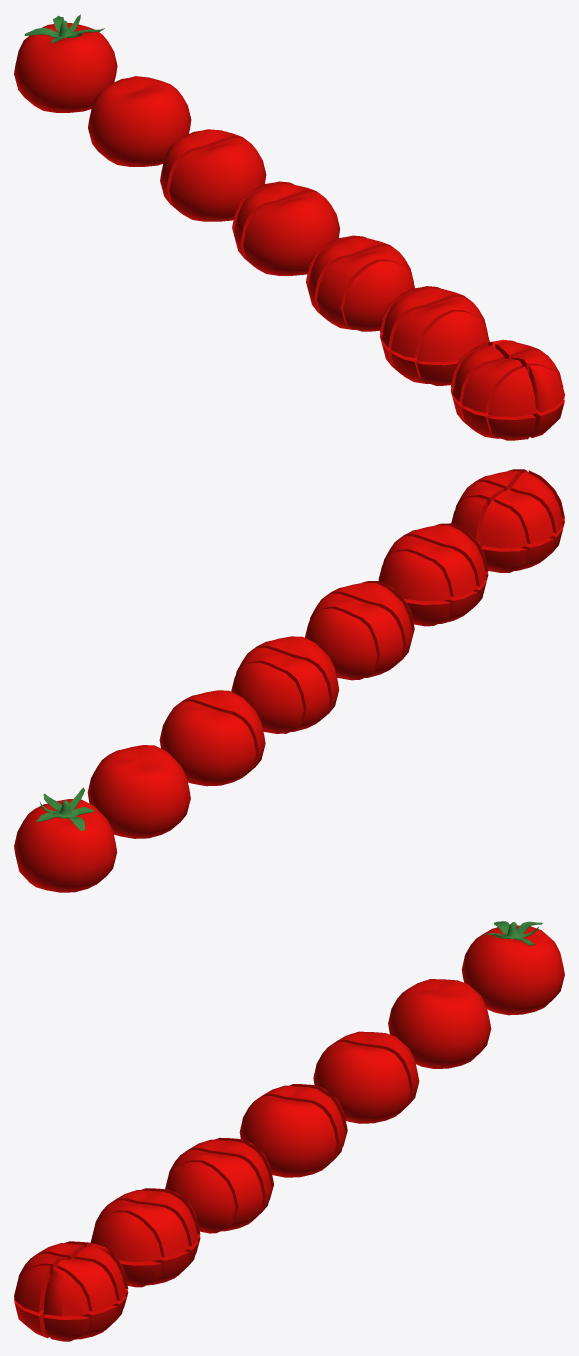
File: Tomato.fbx
3 renders of one model, top to bottom at view 1: azimuth 30°, elevation 25°; view 2: azimuth 150°, elevation 25°; view 3: azimuth 330°, elevation 25°, orthographic.
Parts seen in each view (by area): view 1: Tomato slice 6, Tomato slice 5, Tomato slice 3, Tomato slice 4, Tomato slice 0, Tomato slice 2, Tomato slice 1; view 2: Tomato slice 6, Tomato slice 5, Tomato slice 4, Tomato slice 0, Tomato slice 3, Tomato slice 2, Tomato slice 1; view 3: Tomato slice 6, Tomato slice 5, Tomato slice 3, Tomato slice 4, Tomato slice 0, Tomato slice 2, Tomato slice 1.
Part boxes in pixels (x1=…): Tomato slice 6: x1=450, y1=339, x2=564, y2=440; Tomato slice 5: x1=380, y1=286, x2=489, y2=385; Tomato slice 3: x1=232, y1=181, x2=339, y2=275; Tomato slice 4: x1=306, y1=235, x2=414, y2=331; Tomato slice 0: x1=14, y1=14, x2=117, y2=112; Tomato slice 2: x1=160, y1=129, x2=266, y2=221; Tomato slice 1: x1=88, y1=76, x2=191, y2=166; Tomato slice 6: x1=451, y1=469, x2=564, y2=572; Tomato slice 5: x1=378, y1=523, x2=488, y2=626; Tomato slice 4: x1=305, y1=581, x2=414, y2=680; Tomato slice 0: x1=14, y1=787, x2=117, y2=892; Tomato slice 3: x1=231, y1=636, x2=339, y2=733; Tomato slice 2: x1=159, y1=690, x2=265, y2=786; Tomato slice 1: x1=87, y1=745, x2=190, y2=838; Tomato slice 6: x1=14, y1=1241, x2=128, y2=1341; Tomato slice 5: x1=90, y1=1188, x2=200, y2=1287; Tomato slice 3: x1=239, y1=1084, x2=347, y2=1177; Tomato slice 4: x1=165, y1=1137, x2=273, y2=1233; Tomato slice 0: x1=461, y1=921, x2=564, y2=1015; Tomato slice 2: x1=313, y1=1031, x2=419, y2=1123; Tomato slice 1: x1=388, y1=979, x2=491, y2=1068.
Bounding box in the file's own units: 14.85 × 12.25 × 135.
